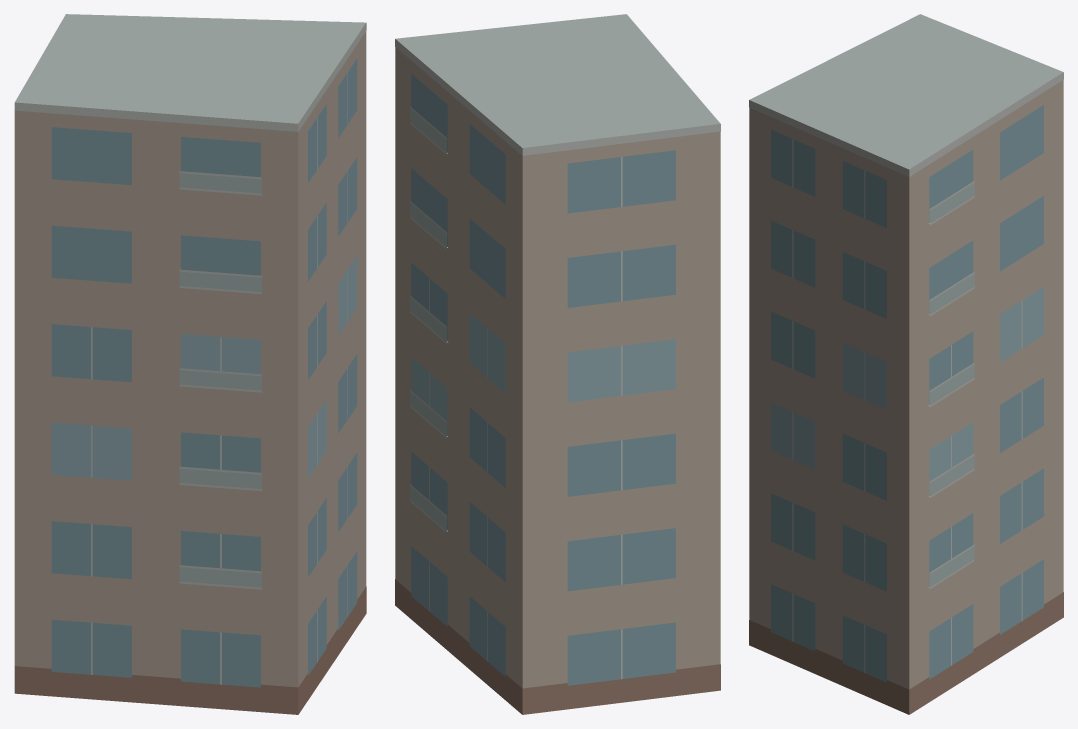
File: survey-upis-32836777.glb
The picture shows the model from 3 angles, left to right: view 1: azimuth 30°, elevation 25°; view 2: azimuth 150°, elevation 25°; view 3: azimuth 270°, elevation 25°; orthographic projection. The views are drawn at different scales.
Parts seen in each view (by area): view 1: survey-upis-32836777.tmp; view 2: survey-upis-32836777.tmp; view 3: survey-upis-32836777.tmp.
Part boxes in pixels (<box>): survey-upis-32836777.tmp: <box>14,14,366,714</box>; survey-upis-32836777.tmp: <box>395,14,720,714</box>; survey-upis-32836777.tmp: <box>749,14,1063,714</box>.
Bounding box in the file's own units: 10.9 × 17.8 × 9.32.
